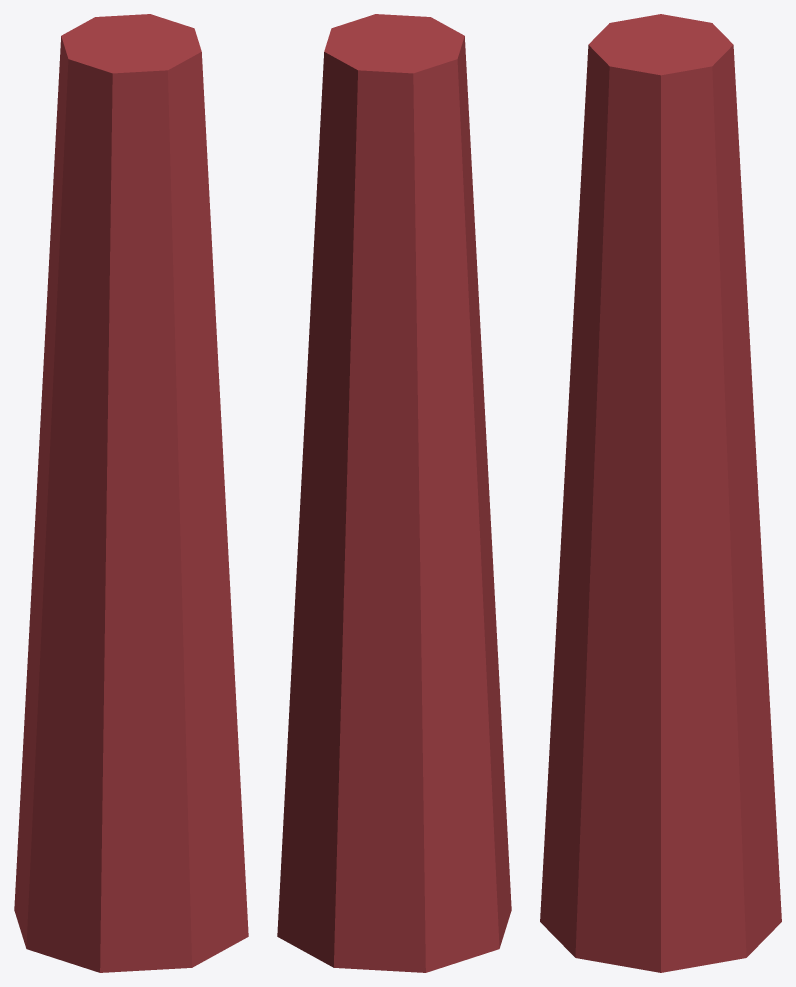
Rendered from wk_muscle_thigh_v01.glb.
3 views of the same model, side by side, from view 1: azimuth 30°, elevation 25°; view 2: azimuth 150°, elevation 25°; view 3: azimuth 270°, elevation 25° (orthographic).
Parts seen in each view (by area): view 1: GEO_Muscle_thigh; view 2: GEO_Muscle_thigh; view 3: GEO_Muscle_thigh.
Part boxes in pixels (x1=…): GEO_Muscle_thigh: x1=14, y1=14, x2=248, y2=972; GEO_Muscle_thigh: x1=277, y1=14, x2=511, y2=972; GEO_Muscle_thigh: x1=540, y1=14, x2=781, y2=972.
Size of the model in its own units: 0.25 by 1 by 0.25.
